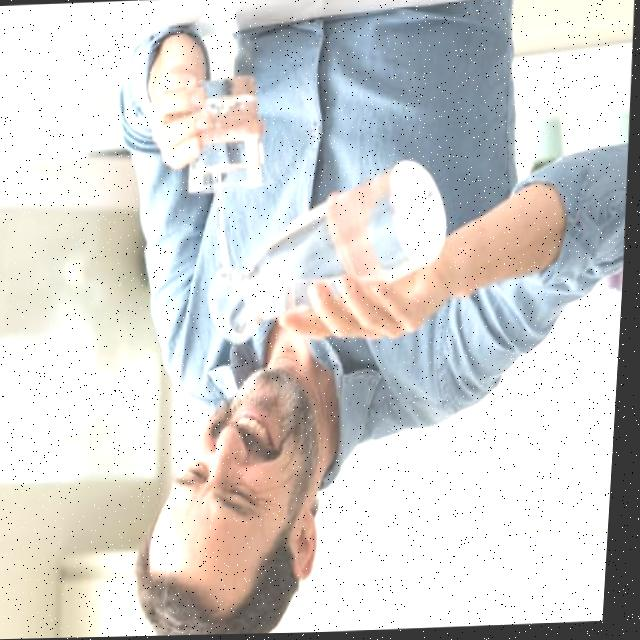eating-person: (83, 0, 640, 638)
